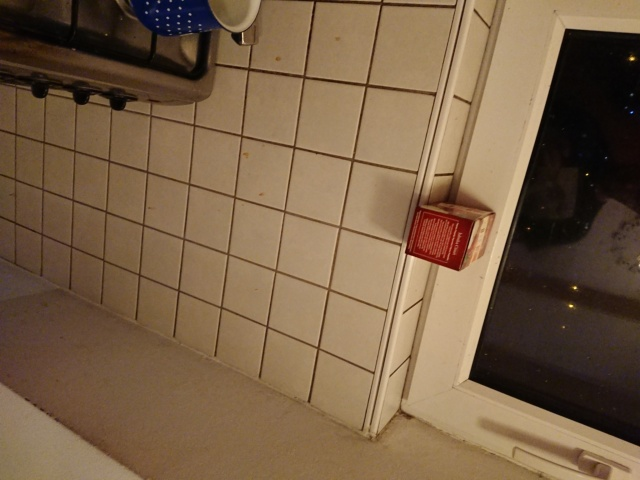Franck Apple Cinnamon Tea 60g: (402, 197, 498, 274)
